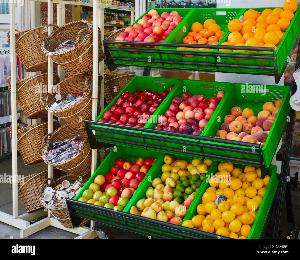apple: (94, 81, 169, 129), (115, 5, 182, 50), (100, 150, 148, 188), (82, 178, 126, 208)
lemon: (198, 163, 276, 247)
lime: (172, 176, 200, 202)
orange: (224, 0, 300, 54), (177, 13, 225, 55)
peach: (212, 90, 286, 150)
pear: (134, 157, 210, 221)
pomegranate: (156, 84, 218, 138)
